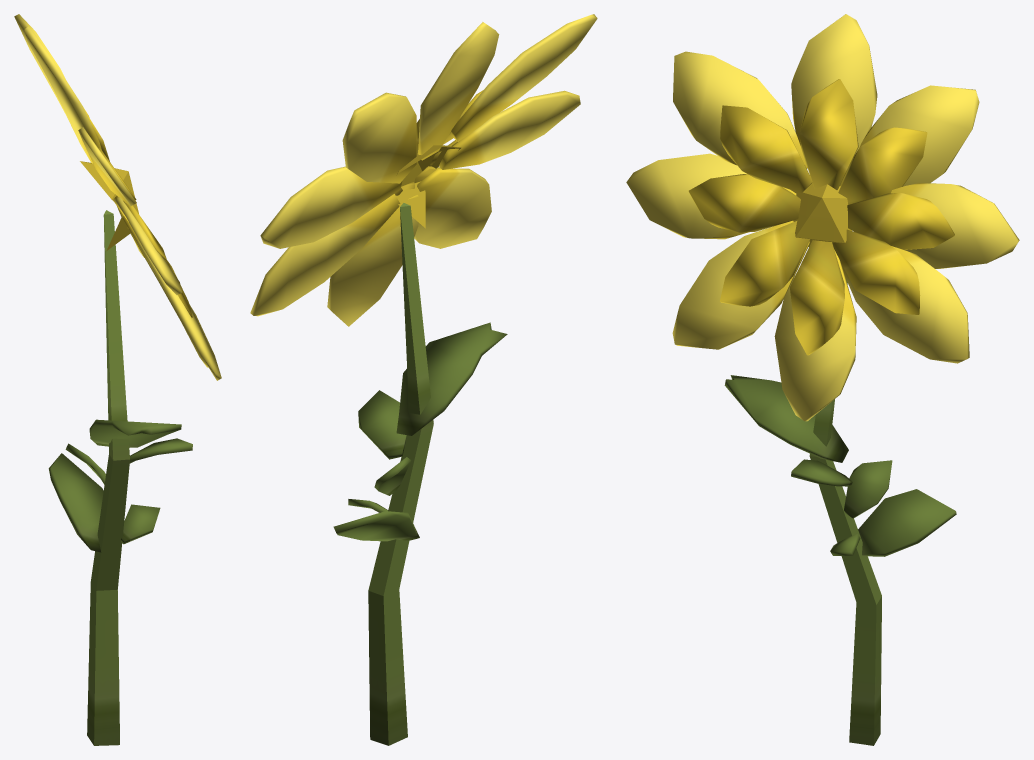
The model's file is PlantaFlorAmarela.glb.
3 renders of one model, left to right at view 1: azimuth 30°, elevation 25°; view 2: azimuth 150°, elevation 25°; view 3: azimuth 270°, elevation 25°, orthographic. The views are drawn at different scales.
Visible parts, largest first — view 1: PlantaFlorAmarela; view 2: PlantaFlorAmarela; view 3: PlantaFlorAmarela.
Boxes of the visible parts, x1,y1,x2,y2 form: PlantaFlorAmarela: (14, 14, 221, 745); PlantaFlorAmarela: (250, 14, 597, 745); PlantaFlorAmarela: (626, 14, 1019, 745).
Size of the model in its own units: 0.8876 by 3.24 by 1.68.
1 material, 1 textured.
